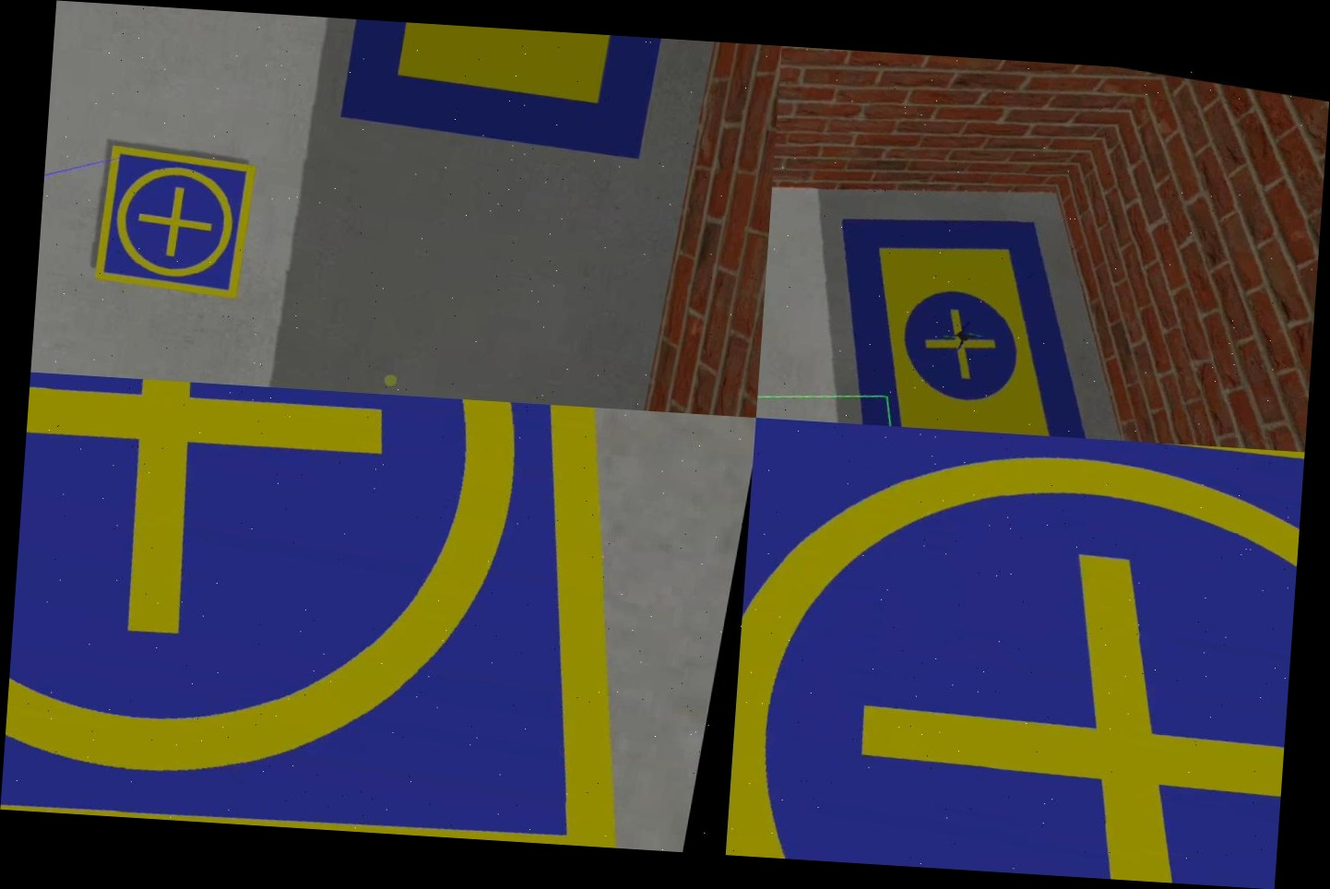large_base: (796, 189, 1144, 441), (331, 18, 679, 169)
small_base: (0, 373, 739, 853), (726, 418, 1304, 889), (86, 142, 263, 305)
